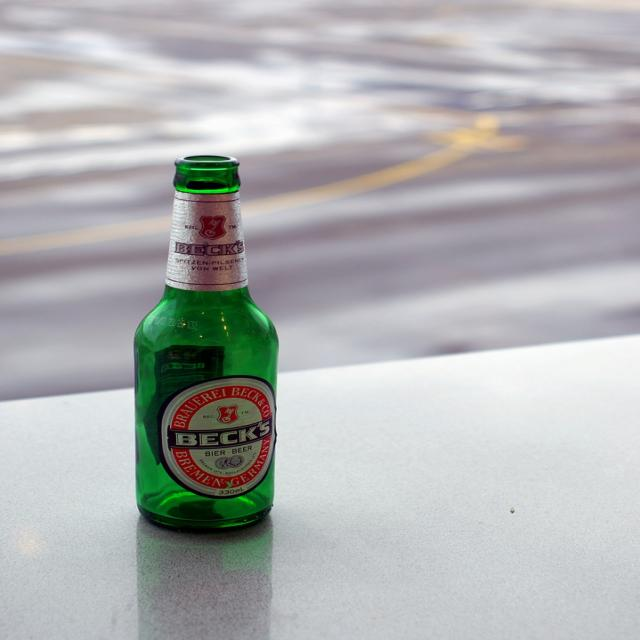becks: (163, 378, 276, 499)
